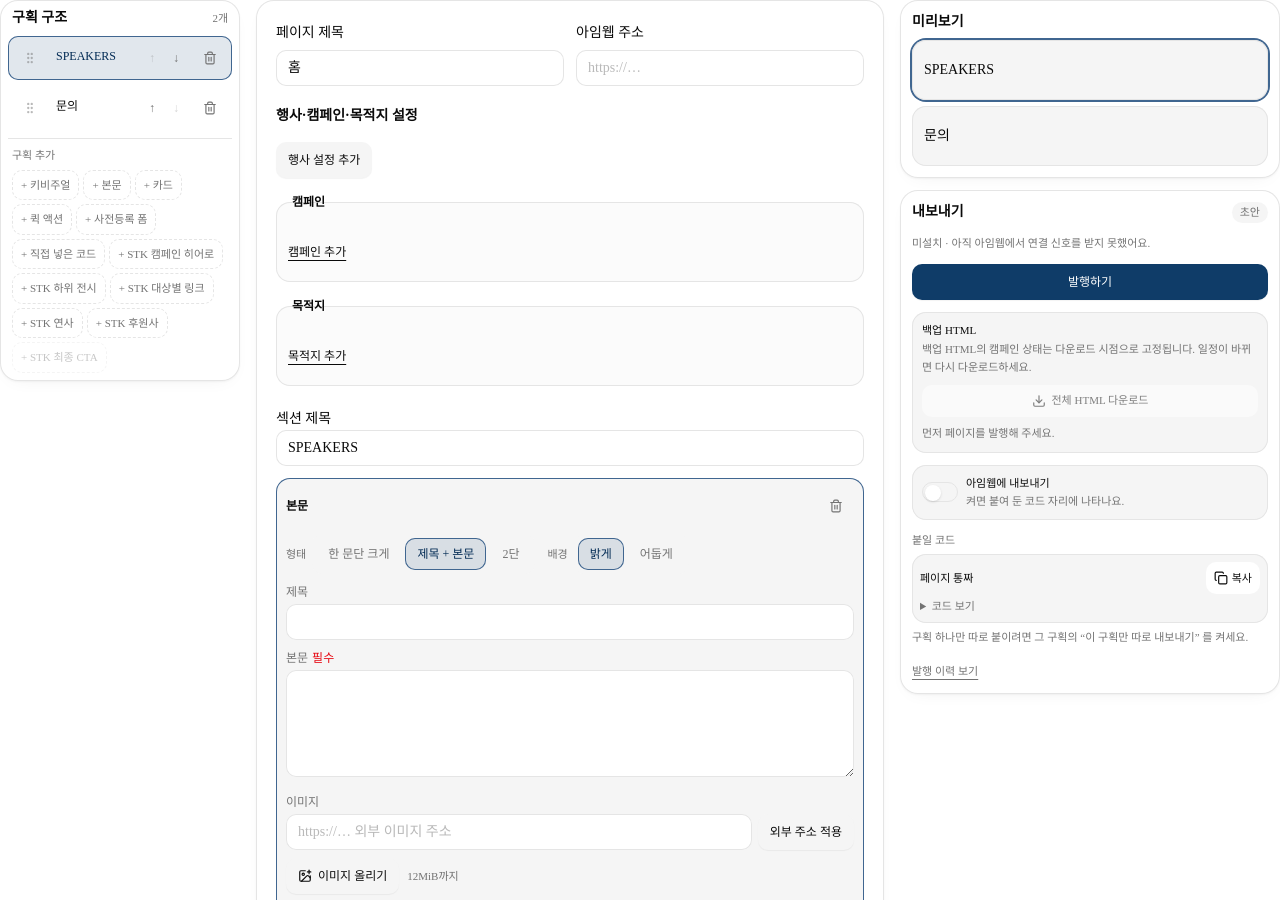
it: one Expo page draft owner › stops autosave after a 409 conflict until explicit reload
This screenshot has width=1280, height=900.
In the field labelled "페이지 제목": (420, 68) [276,50,564,86], type " 충돌"
Wait 900 ms
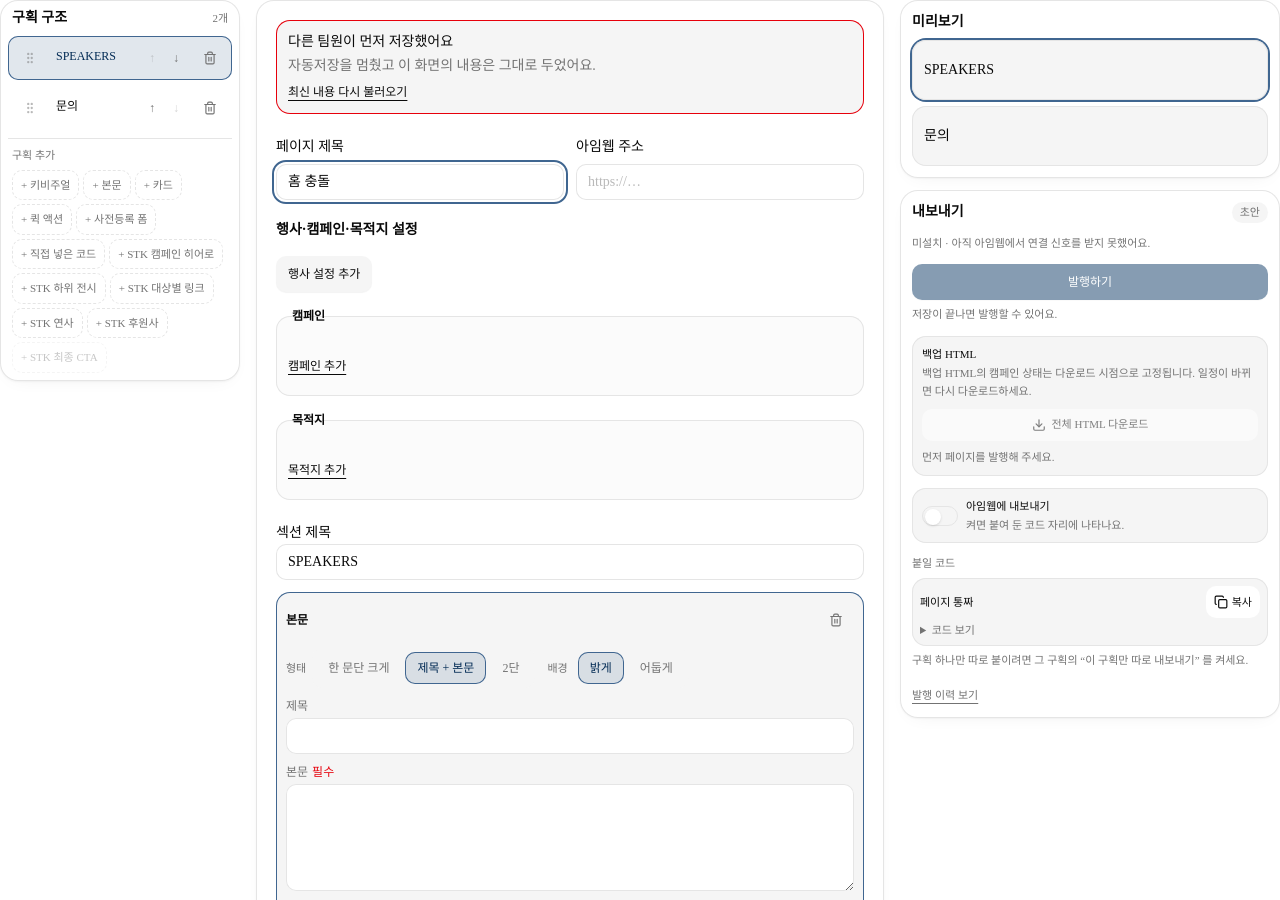
expect the text "다른 팀원이 먼저 저장했어요" is shown: met, box [288,34,453,49]
expect the button "최신 내용 다시 불러오기" is enabled: met, box [288,84,407,100]
In the field labelled "페이지 제목": (420, 182) [276,164,564,200], type " 이후"
Wait 1800 ms
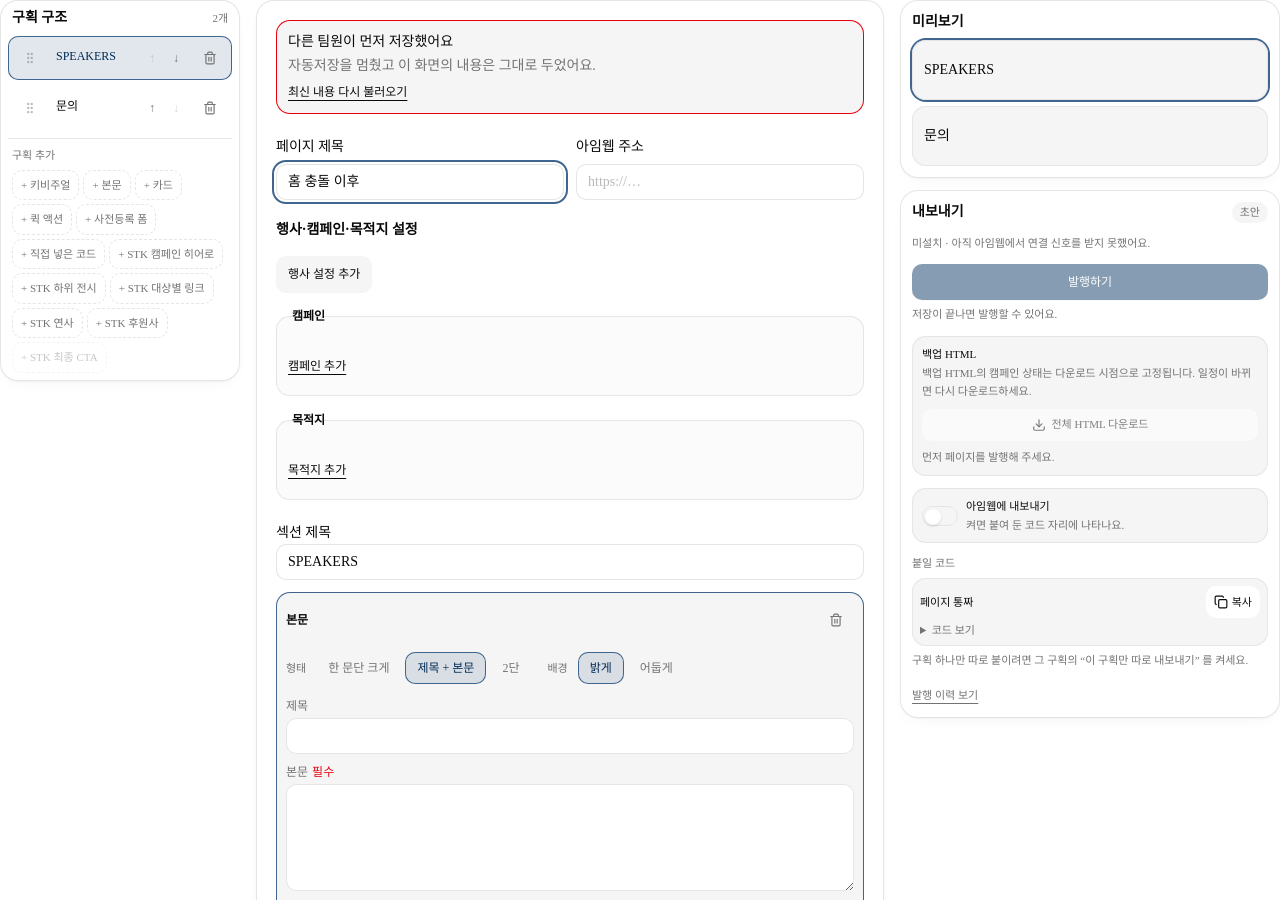
expect the field labelled "페이지 제목" holds "홈 충돌 이후": met, box [276,164,564,200]
Click the button "최신 내용 다시 불러오기": (348, 92) [288,84,407,100]
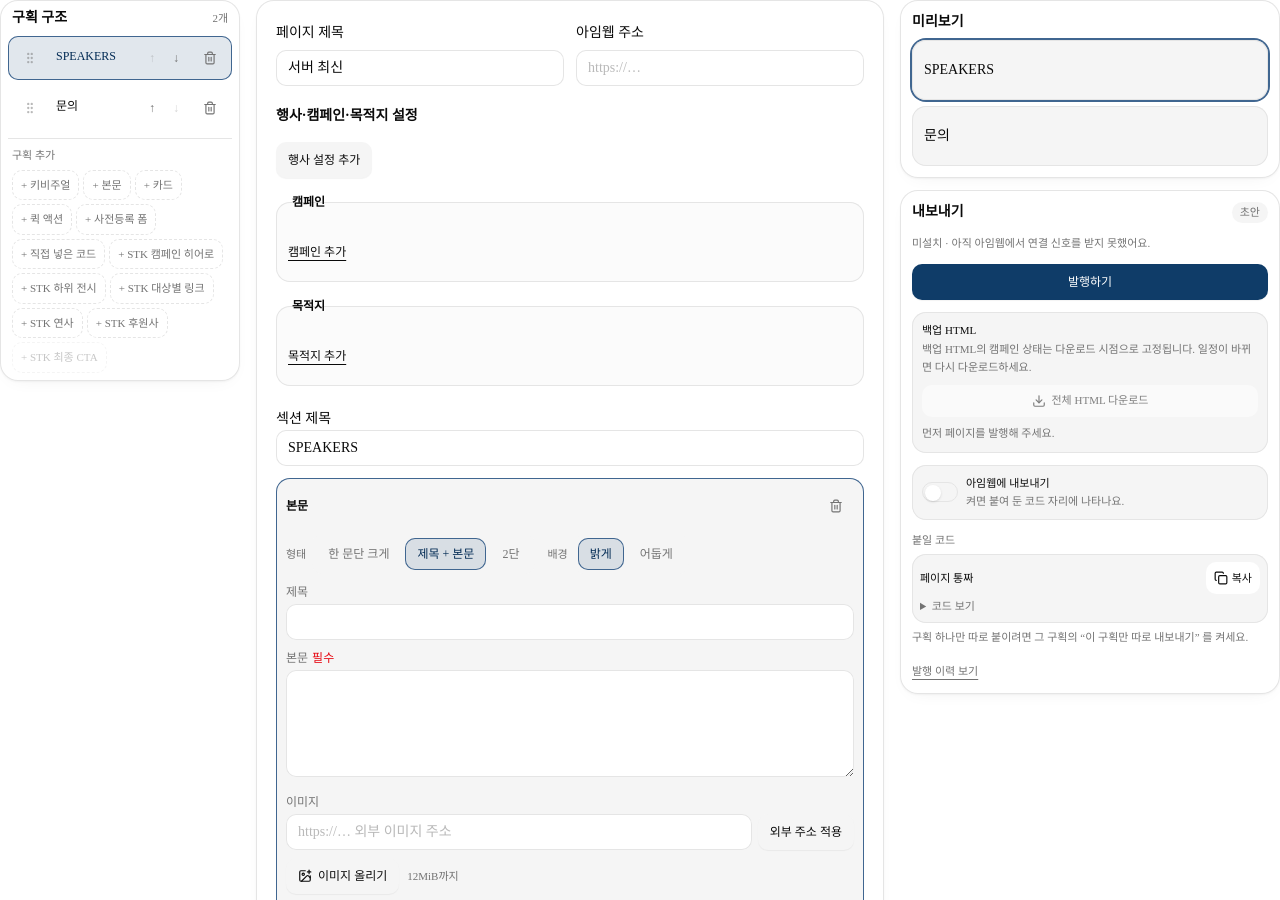
expect the field labelled "페이지 제목" holds "서버 최신": met, box [276,50,564,86]
